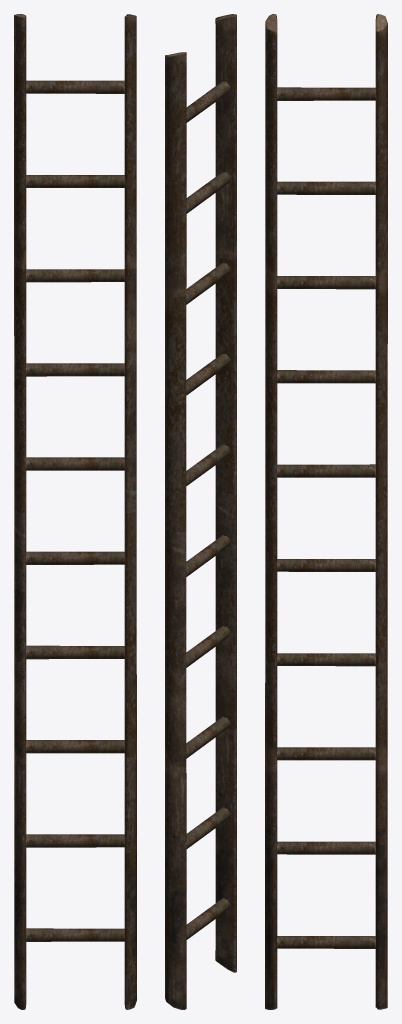
File: SM_Ladder_Wood.fbx
The picture shows the model from 3 angles, left to right: view 1: azimuth 90°, elevation 25°; view 2: azimuth 150°, elevation 25°; view 3: azimuth 270°, elevation 25°; orthographic projection. The views are drawn at different scales.
Visible parts, largest first — view 1: SM_Ladder_Wood_LOD0; view 2: SM_Ladder_Wood_LOD0; view 3: SM_Ladder_Wood_LOD0.
Boxes of the visible parts, <box> form: SM_Ladder_Wood_LOD0: <box>14,14,136,1009</box>; SM_Ladder_Wood_LOD0: <box>165,14,236,1009</box>; SM_Ladder_Wood_LOD0: <box>265,14,387,1009</box>.
Size of the model in its own units: 10.16 by 50.3 by 448.
Materials: 1 (1 with a texture image).
